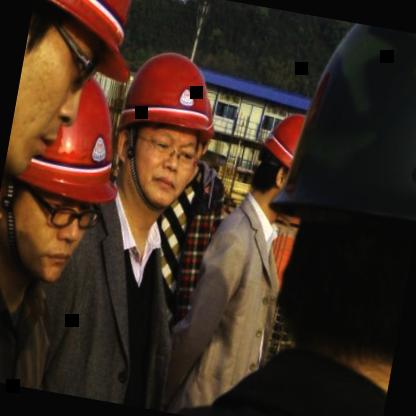helmet: (239, 13, 416, 392), (0, 54, 129, 299), (0, 0, 140, 223), (101, 41, 230, 222), (240, 100, 336, 221)
